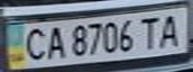0: (103, 18, 121, 54)
6: (118, 16, 139, 53)
7: (84, 20, 106, 55)
8: (66, 21, 87, 57)
A: (154, 10, 187, 48), (42, 24, 69, 60)
C: (18, 25, 51, 62)
T: (136, 13, 163, 51)
